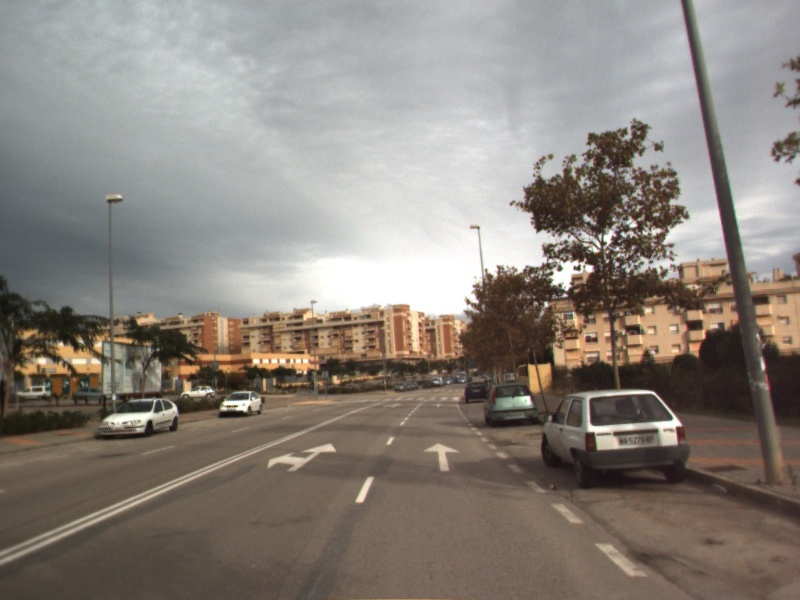STRAIGHT: (422, 441, 462, 473)
STRAIGHT_LEFT: (265, 441, 338, 474)
